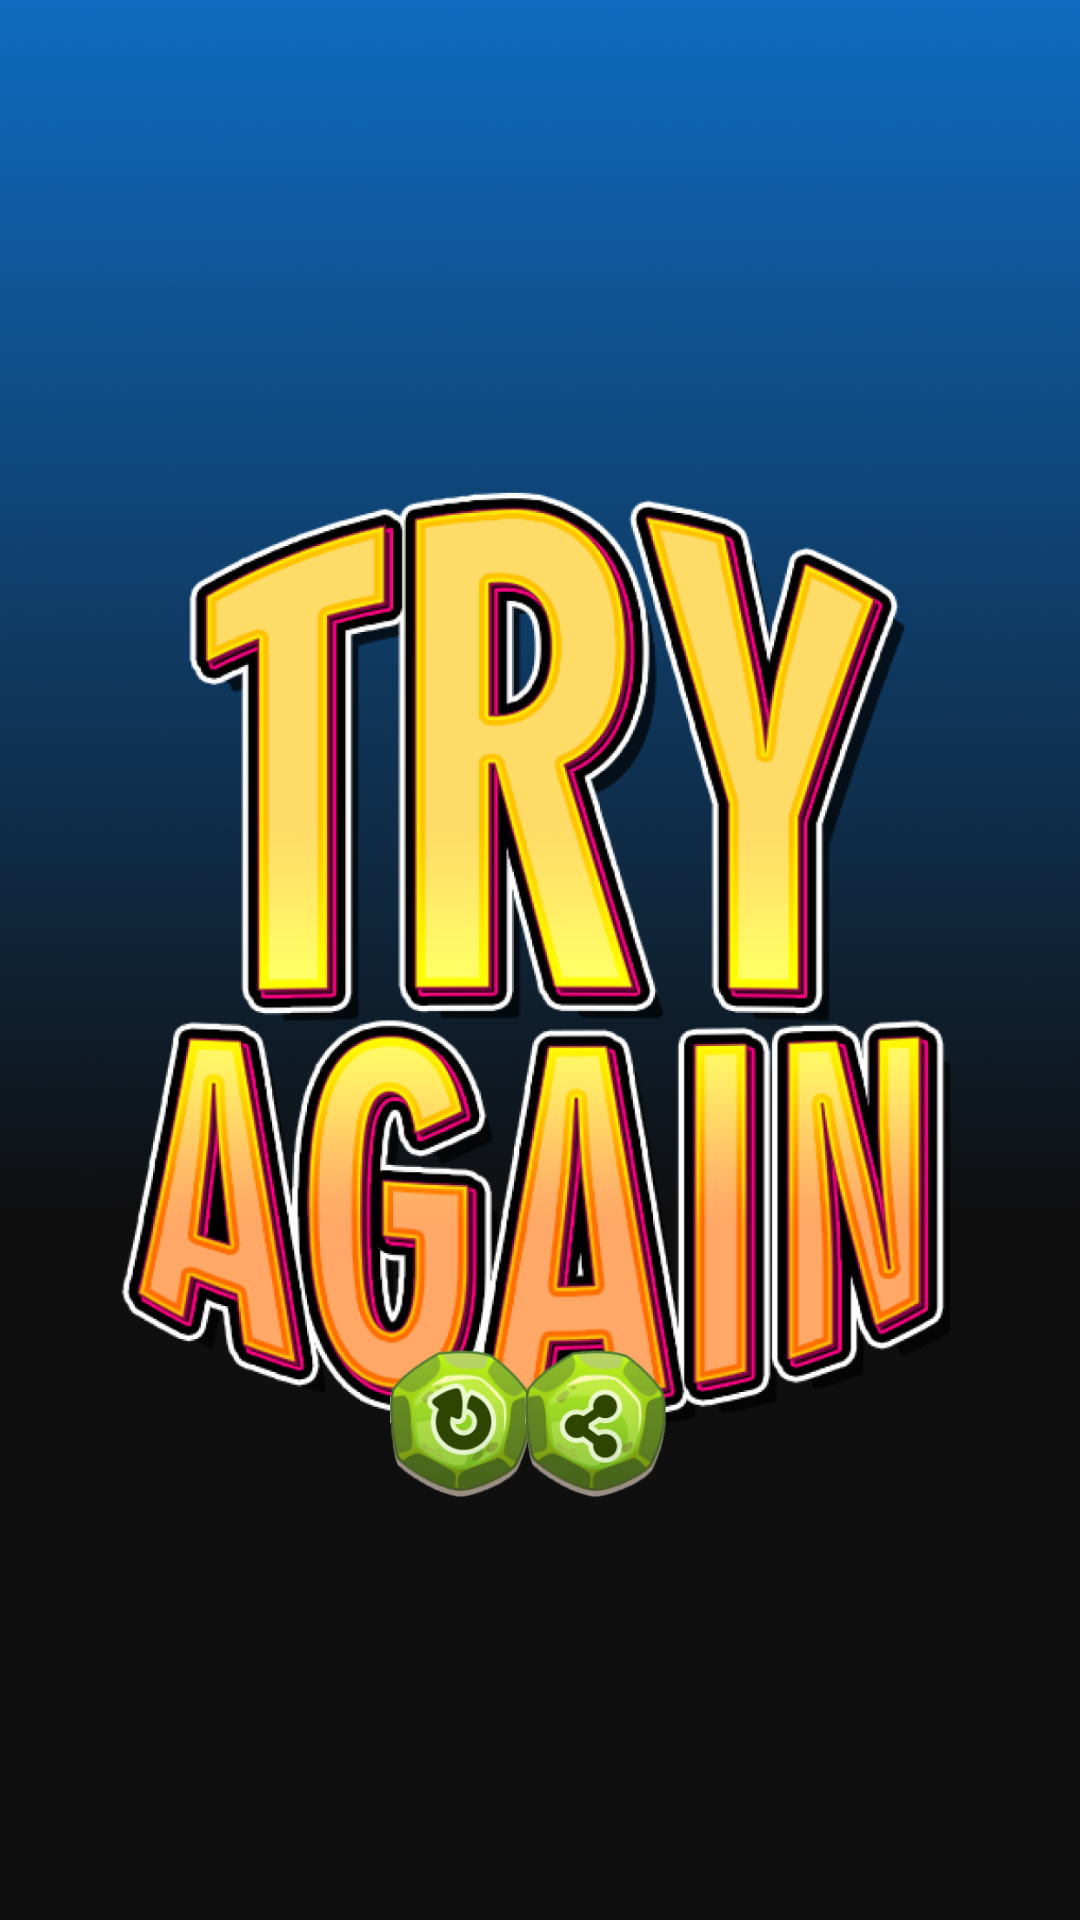

Named icons in this screenshot (1080px x 1920px) and their centers, (x=x, y=y):
retry: (x=460, y=1423)
